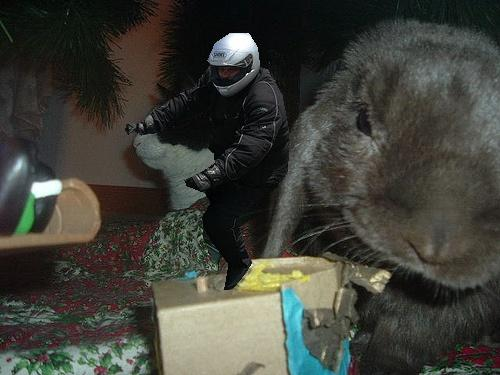tampered: (126, 34, 289, 290)
